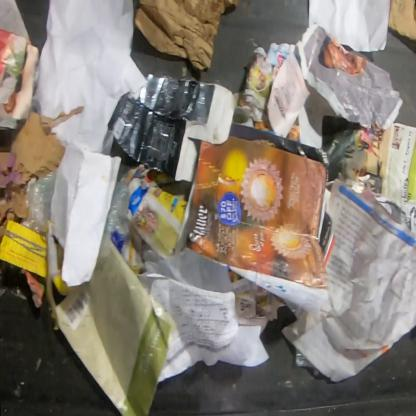cardboard: (107, 70, 242, 184), (0, 108, 83, 245), (47, 143, 122, 287), (0, 218, 72, 332), (134, 0, 239, 73), (387, 0, 415, 43)
soft_plastic: (25, 166, 58, 235), (104, 181, 132, 236)
